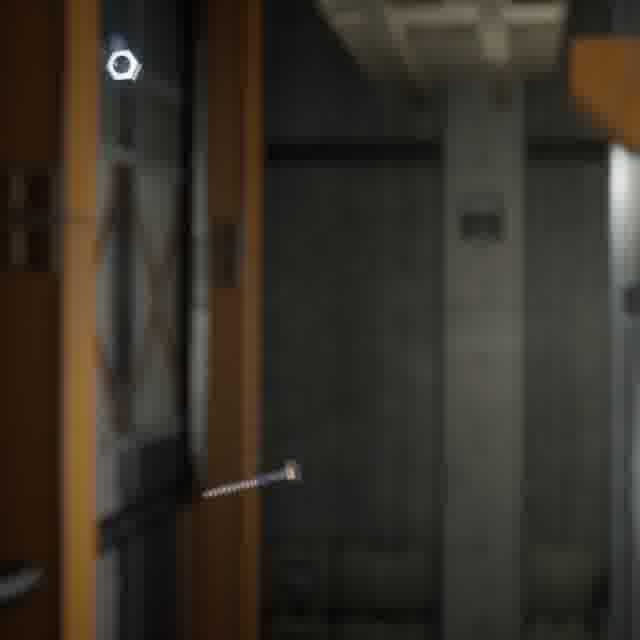bolt: (198, 455, 306, 502)
nut: (101, 45, 146, 87)
